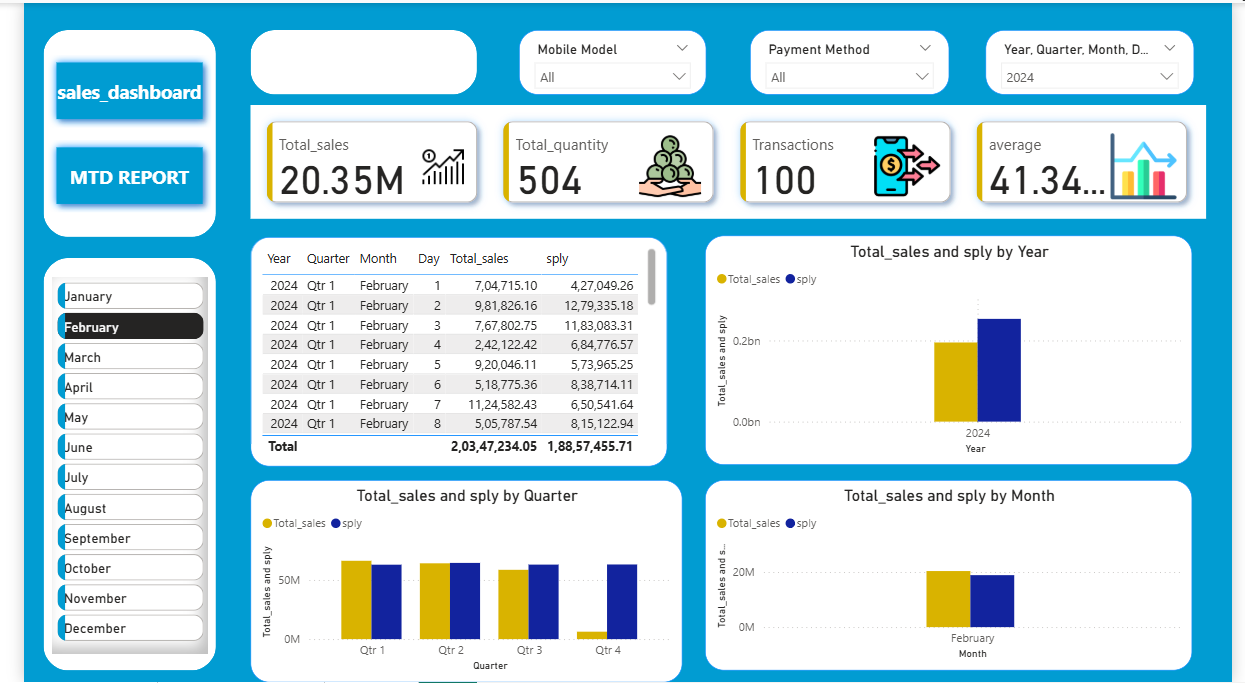

This screenshot's page, from the dashboard's own definition file:
{"tool":"powerbi","page":{"name":"sply","canvas":[1280,720],"ordinal":2},"visuals":[{"type":"shape","box":[20.7,28.6,182.9,219.5],"z":0},{"type":"cardVisual","fields":{"Data":["sales_data.Total_sales","sales_data.Total_quantity","sales_data.Transactions","sales_data.average"]},"box":[240.2,108.2,1013.2,120.9],"z":1000},{"type":"slicer","fields":{"Values":["sales_data.Mobile Model"]},"box":[524.9,28.6,198.8,68.4],"z":2000},{"type":"slicer","fields":{"Values":["sales_data.Payment Method"]},"box":[769.9,28.6,211.6,68.4],"z":3000},{"type":"slicer","fields":{"Values":["custom_calendar.date.Variation.Date Hierarchy.Year","custom_calendar.date.Variation.Date Hierarchy.Quarter","custom_calendar.date.Variation.Date Hierarchy.Month","custom_calendar.date.Variation.Date Hierarchy.Day"]},"box":[1019.6,28.6,221.1,68.4],"z":4000},{"type":"shape","box":[240.2,28.6,240.2,68.4],"z":5000},{"type":"shape","box":[20.7,270.4,182.9,437.4],"z":7000},{"type":"advancedSlicerVisual","fields":{"Values":["custom_calendar.date.Variation.Date Hierarchy.Month"]},"box":[30.2,291.1,165.4,399.2],"z":8000},{"type":"tableEx","fields":{"Values":["custom_calendar.date.Variation.Date Hierarchy.Year","custom_calendar.date.Variation.Date Hierarchy.Quarter","custom_calendar.date.Variation.Date Hierarchy.Month","custom_calendar.date.Variation.Date Hierarchy.Day","sales_data.Total_sales","sales_data.sply"]},"box":[240.2,248.1,442.2,243.4],"z":8001},{"type":"clusteredColumnChart","fields":{"Category":["custom_calendar.date.Variation.Date Hierarchy.Year","custom_calendar.date.Variation.Date Hierarchy.Quarter"],"Y":["sales_data.Total_sales","sales_data.sply"]},"box":[722.1,246.5,516.9,243.4],"z":8002},{"type":"clusteredColumnChart","fields":{"Category":["custom_calendar.date.Variation.Date Hierarchy.Quarter"],"Y":["sales_data.Total_sales","sales_data.sply"]},"box":[240.2,505.8,458.1,214.7],"z":8003},{"type":"clusteredColumnChart","fields":{"Y":["sales_data.Total_sales","sales_data.sply"],"Category":["custom_calendar.date.Variation.Date Hierarchy.Month"]},"box":[722.1,505.8,516.9,202],"z":8004},{"type":"pageNavigator","box":[25.4,54.1,173.4,168.6],"z":8005}]}

Visuals, with their boxes in screenshot pixels (x1, y1, x2, y2), scaled from the page's 1280x720 canvas onto the 1245x683 screenshot:
shape: <region>20, 27, 198, 235</region>
cardVisual - sales_data.Total_sales x sales_data.Total_quantity: <region>234, 103, 1219, 217</region>
slicer - sales_data.Mobile Model: <region>511, 27, 704, 92</region>
slicer - sales_data.Payment Method: <region>749, 27, 955, 92</region>
slicer - custom_calendar.date.Variation.Date Hierarchy.Year x custom_calendar.date.Variation.Date Hierarchy.Quarter: <region>992, 27, 1207, 92</region>
shape: <region>234, 27, 467, 92</region>
shape: <region>20, 257, 198, 671</region>
advancedSlicerVisual - custom_calendar.date.Variation.Date Hierarchy.Month: <region>29, 276, 190, 655</region>
tableEx - custom_calendar.date.Variation.Date Hierarchy.Year x custom_calendar.date.Variation.Date Hierarchy.Quarter: <region>234, 235, 664, 466</region>
clusteredColumnChart - custom_calendar.date.Variation.Date Hierarchy.Year x custom_calendar.date.Variation.Date Hierarchy.Quarter: <region>702, 234, 1205, 465</region>
clusteredColumnChart - custom_calendar.date.Variation.Date Hierarchy.Quarter x sales_data.Total_sales: <region>234, 480, 679, 682</region>
clusteredColumnChart - sales_data.Total_sales x sales_data.sply: <region>702, 480, 1205, 671</region>
pageNavigator: <region>25, 51, 193, 211</region>
